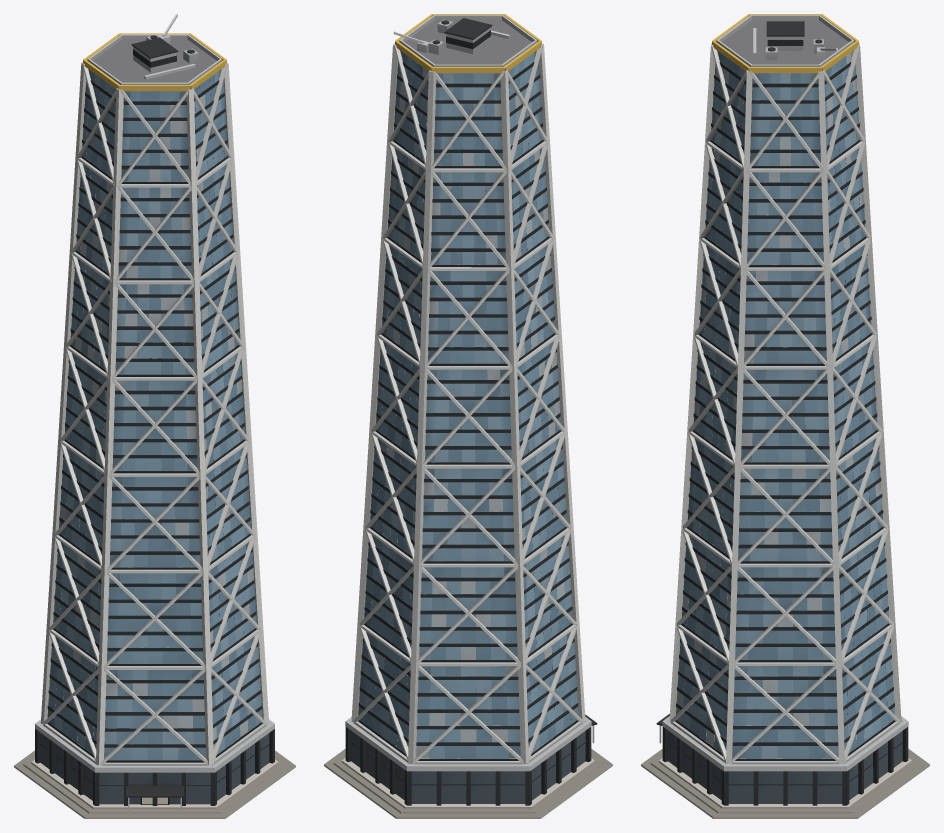
3 views of the same model, side by side, from view 1: azimuth 30°, elevation 25°; view 2: azimuth 150°, elevation 25°; view 3: azimuth 270°, elevation 25° (orthographic). The views are drawn at different scales.
Visible parts, largest first — view 1: t2; view 2: t2; view 3: t2.
Boxes of the visible parts, x1,y1,x2,y2 form: t2: (14, 14, 295, 818); t2: (324, 14, 612, 818); t2: (641, 14, 929, 818).
Size of the model in its own units: 54.88 by 179 by 63.37.
